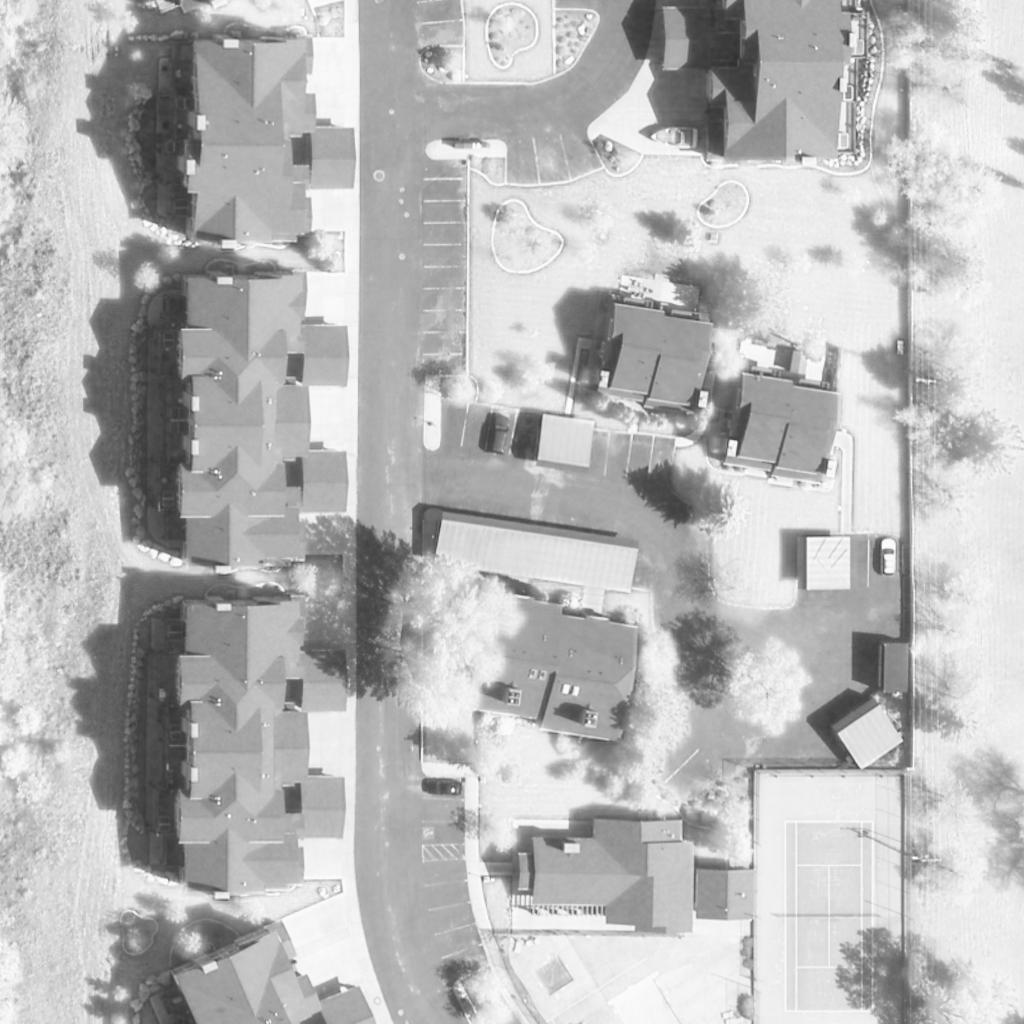vehicle: (486, 416, 514, 458), (649, 128, 699, 150), (881, 539, 897, 577), (428, 781, 462, 793)
